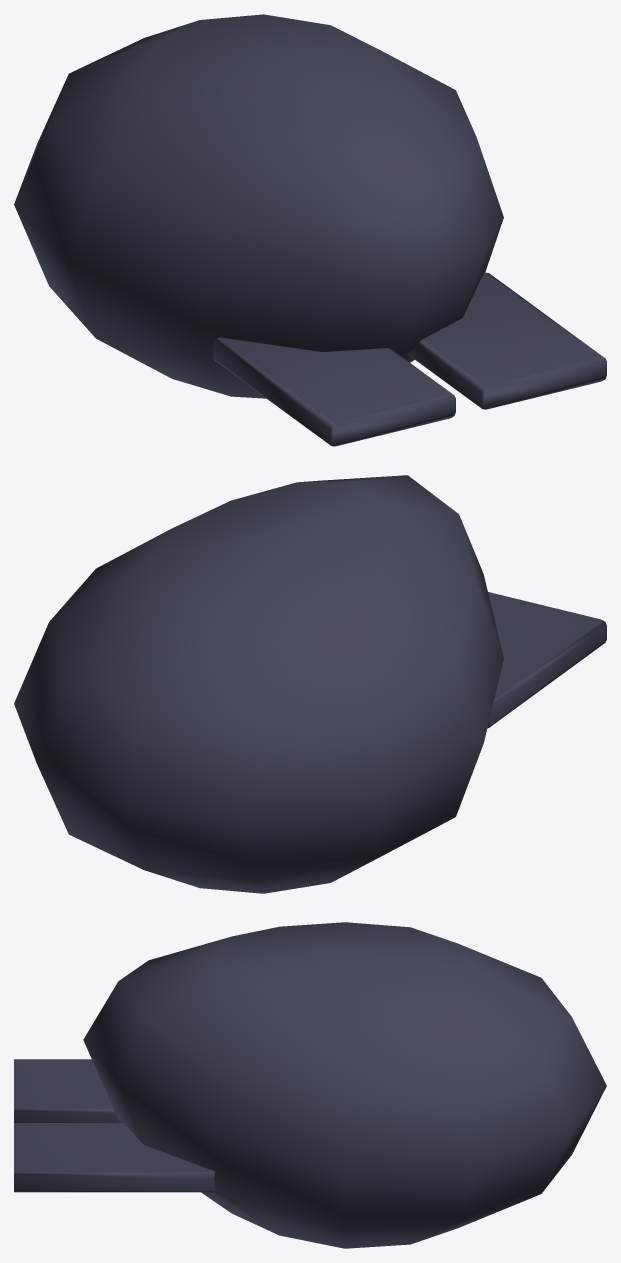
Rendered from wear_coat.glb.
The picture shows the model from 3 angles, top to bottom: view 1: azimuth 30°, elevation 25°; view 2: azimuth 150°, elevation 25°; view 3: azimuth 270°, elevation 25°; orthographic projection. The views are drawn at different scales.
Parts seen in each view (by area): view 1: Item; view 2: Item; view 3: Item.
Part boxes in pixels (x1,y1,x2,y2): Item: (14,14,606,446); Item: (14,475,606,893); Item: (14,922,606,1248).
Bounding box in the file's own units: 0.6794 × 0.5018 × 0.976.
